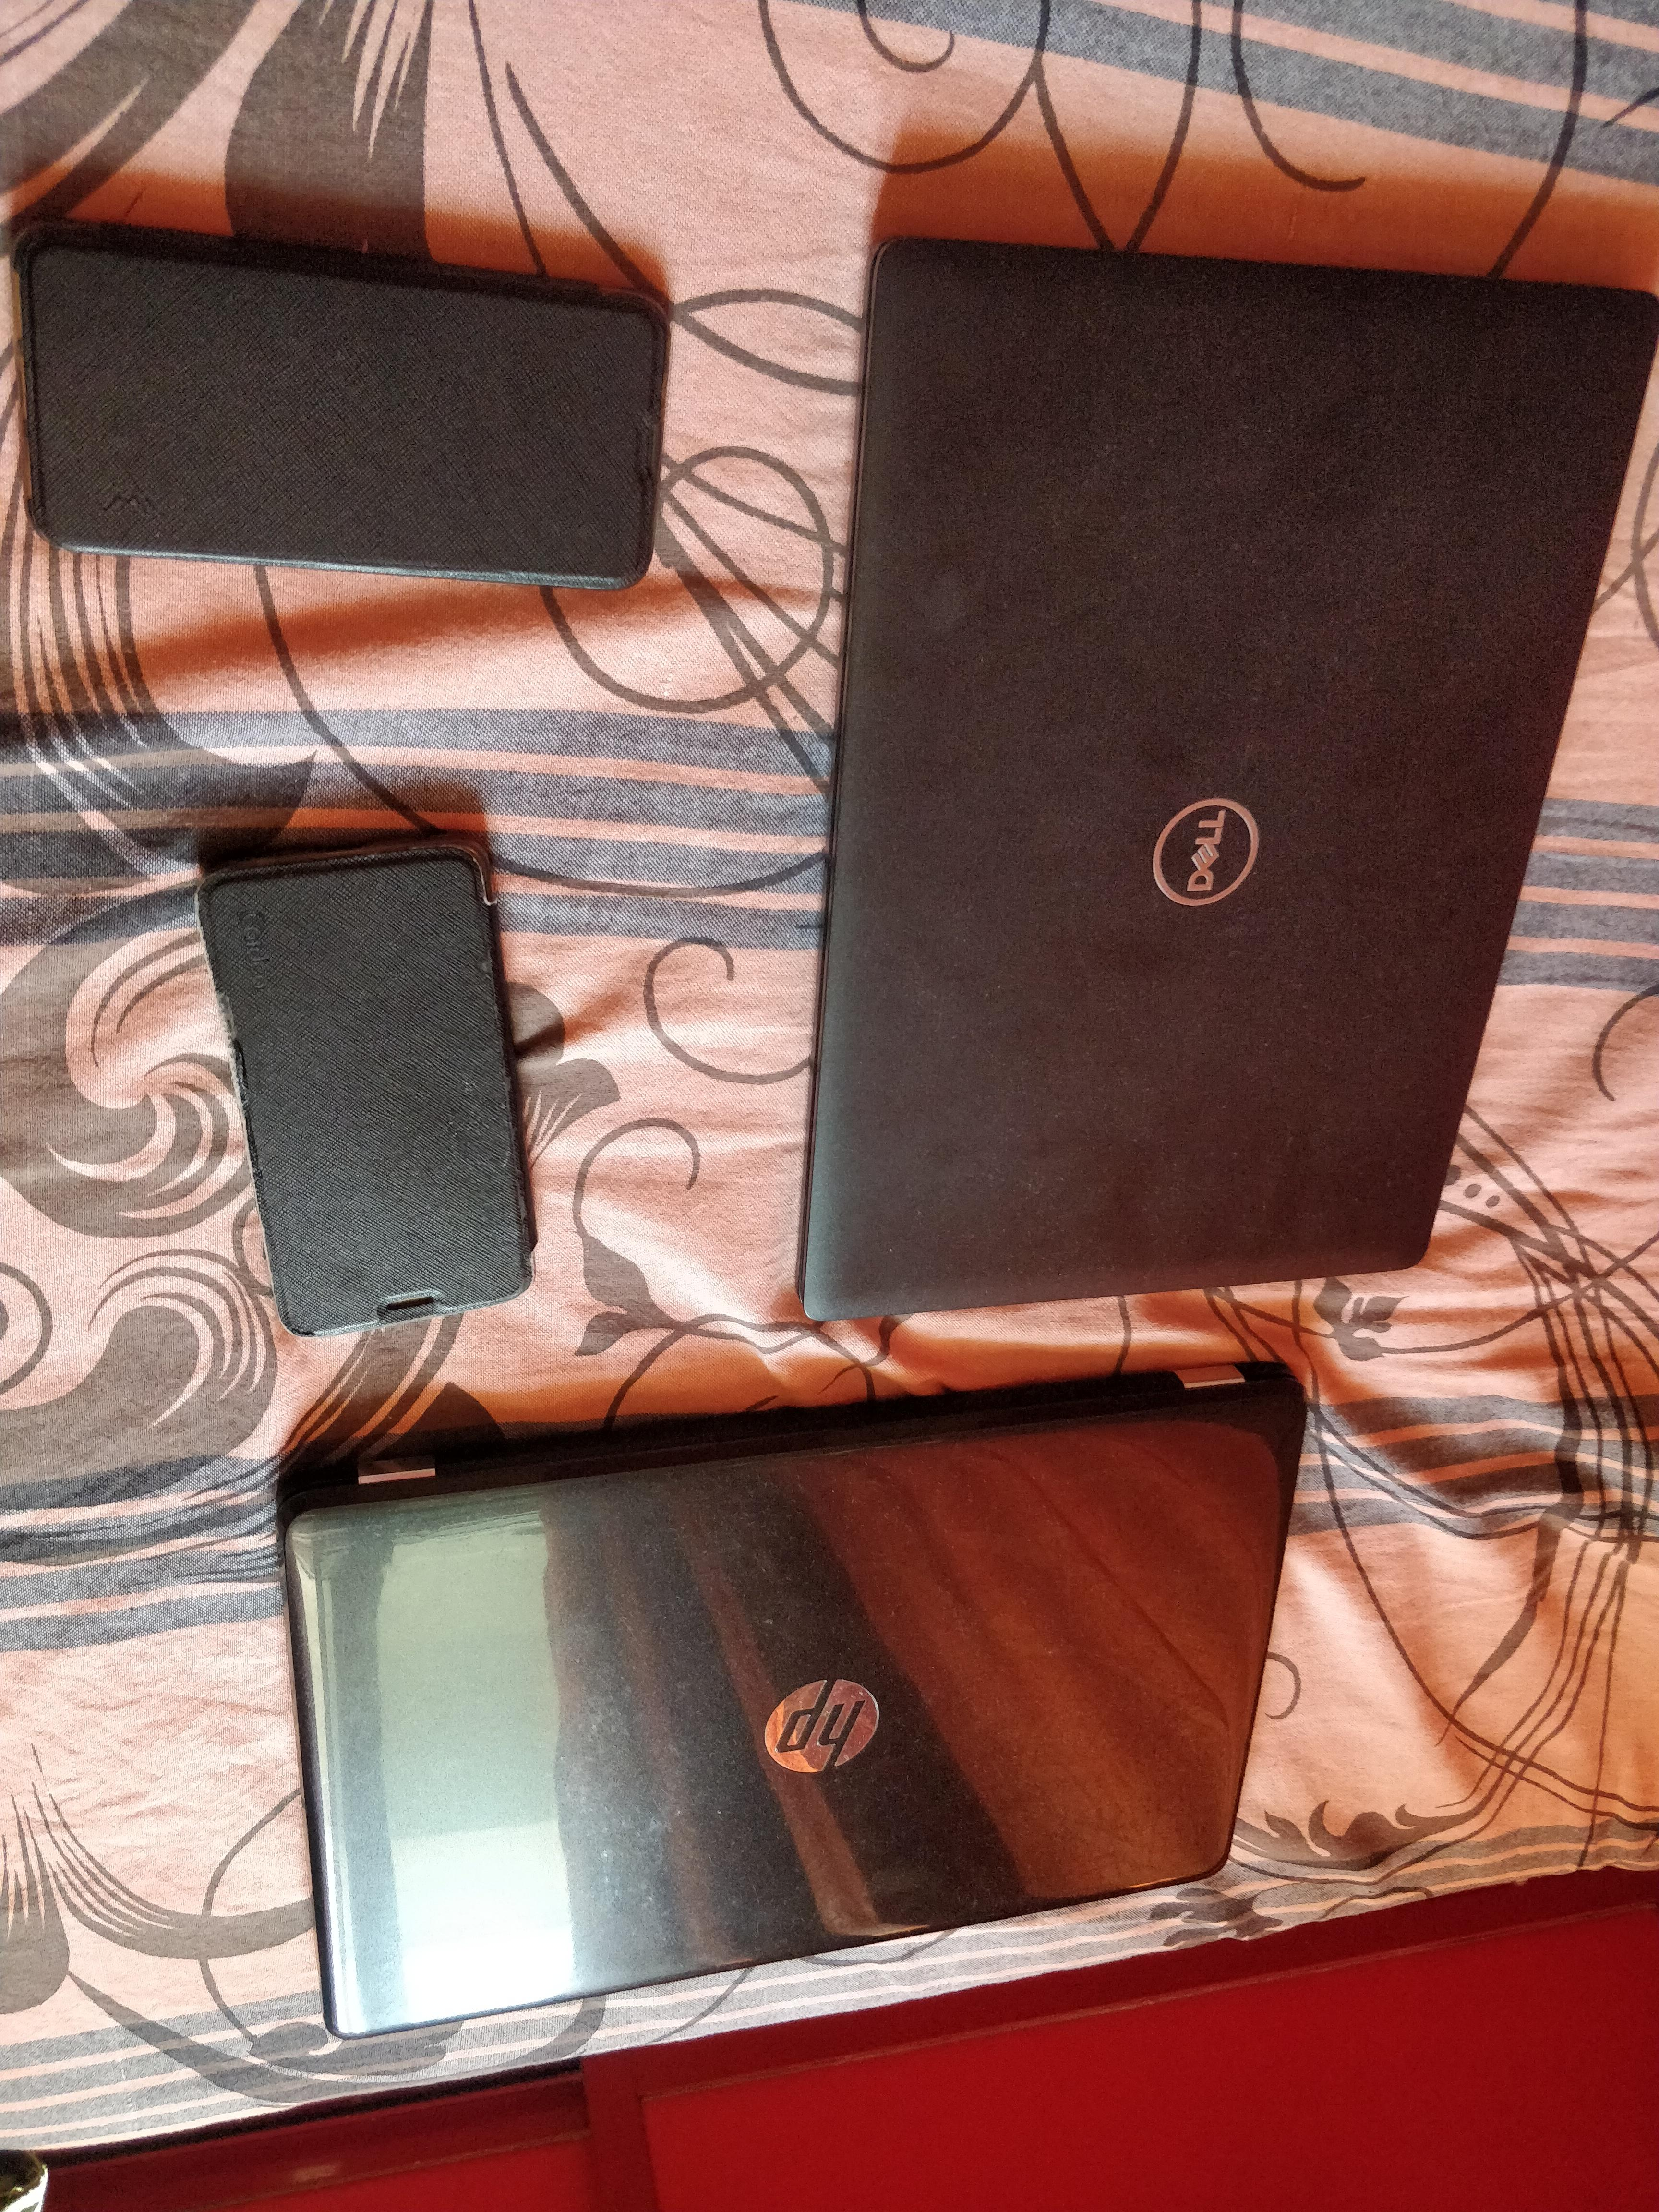Phone: (0, 202, 694, 629), (166, 787, 549, 1348)
laptop: (760, 200, 1659, 1369), (251, 1346, 1370, 2048)
